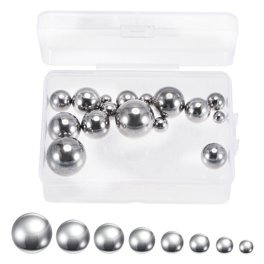ironball: (11, 212, 52, 253), (46, 136, 86, 176), (114, 98, 154, 137), (55, 218, 89, 252), (47, 111, 80, 140), (93, 222, 124, 252), (153, 86, 184, 116), (80, 109, 109, 138), (200, 142, 227, 168), (71, 87, 100, 111), (128, 226, 155, 251), (184, 97, 210, 122), (160, 230, 183, 252), (49, 89, 71, 110), (189, 233, 209, 252), (115, 89, 137, 106), (206, 92, 225, 110), (215, 236, 233, 253), (100, 101, 117, 116), (238, 239, 253, 253), (152, 116, 167, 130), (138, 92, 153, 104), (212, 110, 225, 123), (99, 94, 111, 103)
